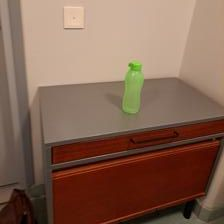bottle: (121, 59, 146, 114)
